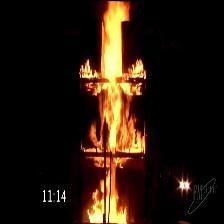fire: (67, 1, 160, 224)
